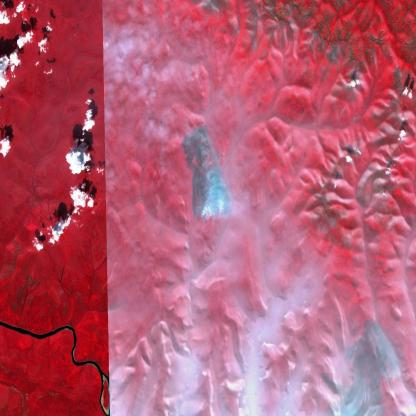fire: (190, 194, 231, 224)
